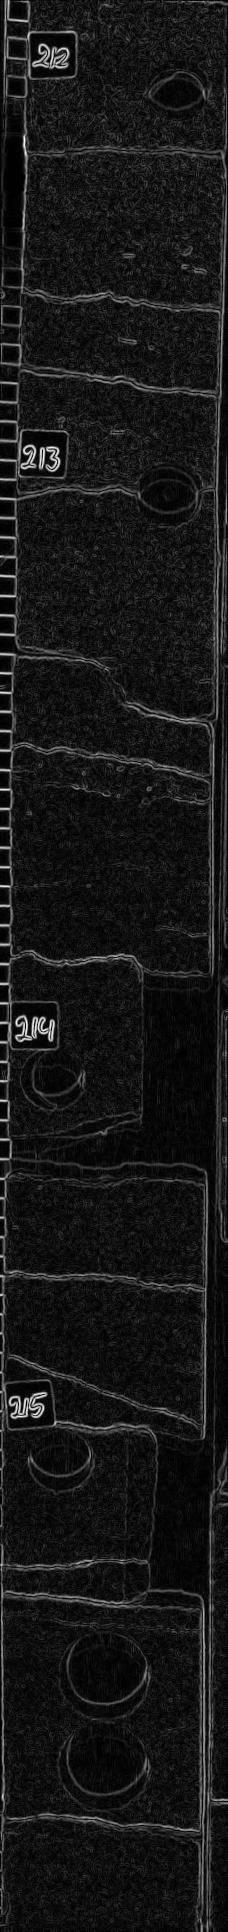hplug: (129, 457, 214, 534), (21, 1417, 104, 1495), (137, 55, 219, 127), (18, 1045, 92, 1119)
scal: (51, 1719, 153, 1817), (53, 1629, 157, 1719)
vplug: (127, 961, 228, 1134), (120, 1419, 203, 1621)
